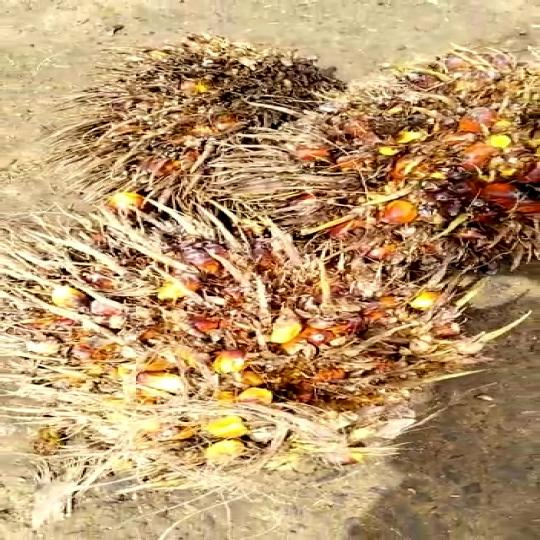terlalu masak: (0, 188, 483, 490), (245, 56, 540, 275), (63, 30, 353, 186)
